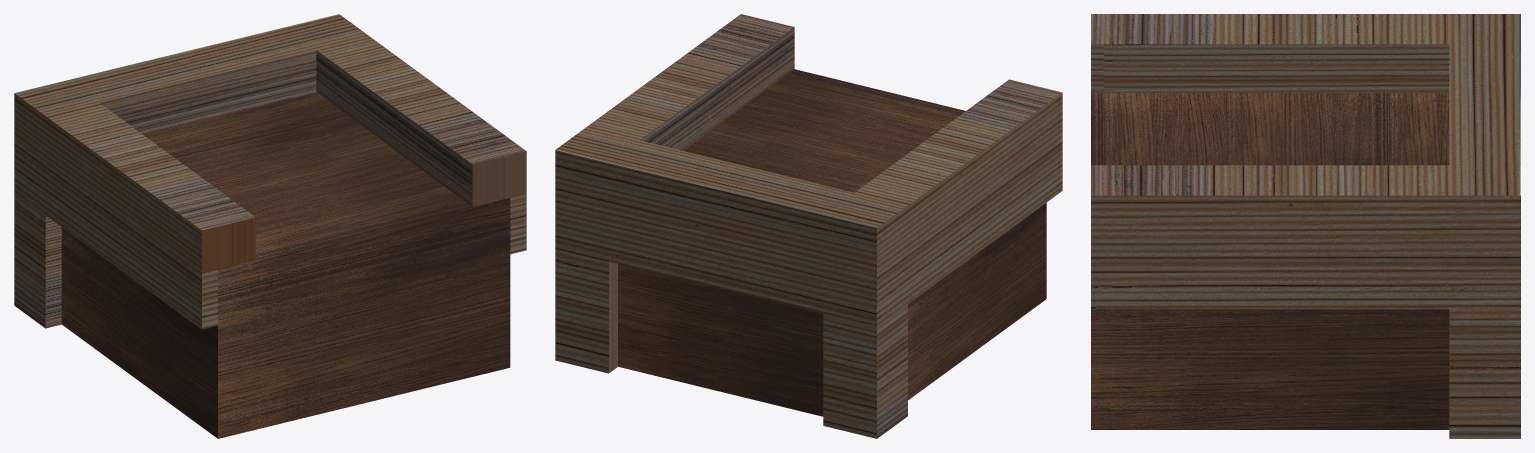
The model's file is wall5.fbx.
The picture shows the model from 3 angles, left to right: view 1: azimuth 30°, elevation 25°; view 2: azimuth 150°, elevation 25°; view 3: azimuth 270°, elevation 25°; orthographic projection. The views are drawn at different scales.
Parts seen in each view (by area): view 1: Cube.004; view 2: Cube.004; view 3: Cube.004.
Part boxes in pixels (x1,y1,x2,y2): Cube.004: (14, 14, 526, 438); Cube.004: (555, 14, 1062, 438); Cube.004: (1091, 14, 1520, 438).
Size of the model in its own units: 200 by 125 by 200.
